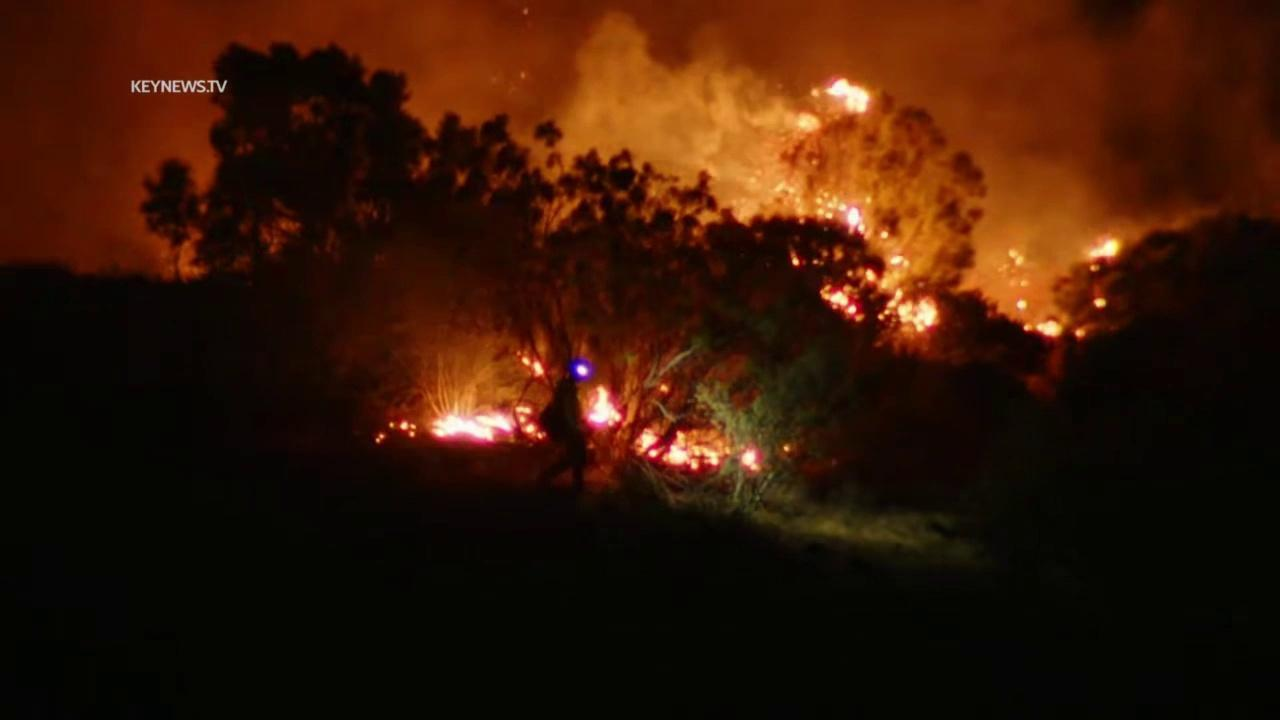fire: (772, 179, 867, 238), (429, 403, 550, 445), (638, 425, 721, 470), (874, 286, 943, 334), (820, 71, 871, 115), (583, 384, 623, 434), (818, 281, 862, 322), (1020, 318, 1063, 338), (516, 349, 545, 378), (1084, 239, 1120, 258), (739, 447, 763, 471), (888, 253, 911, 269), (1007, 247, 1025, 267), (400, 419, 416, 438), (866, 265, 879, 284), (1014, 297, 1030, 311), (1073, 325, 1087, 340), (1091, 297, 1106, 310), (658, 382, 671, 396), (788, 255, 801, 268), (374, 432, 387, 444), (879, 228, 890, 240), (782, 444, 792, 455), (388, 420, 395, 429)
smoke: (0, 0, 1280, 347)
